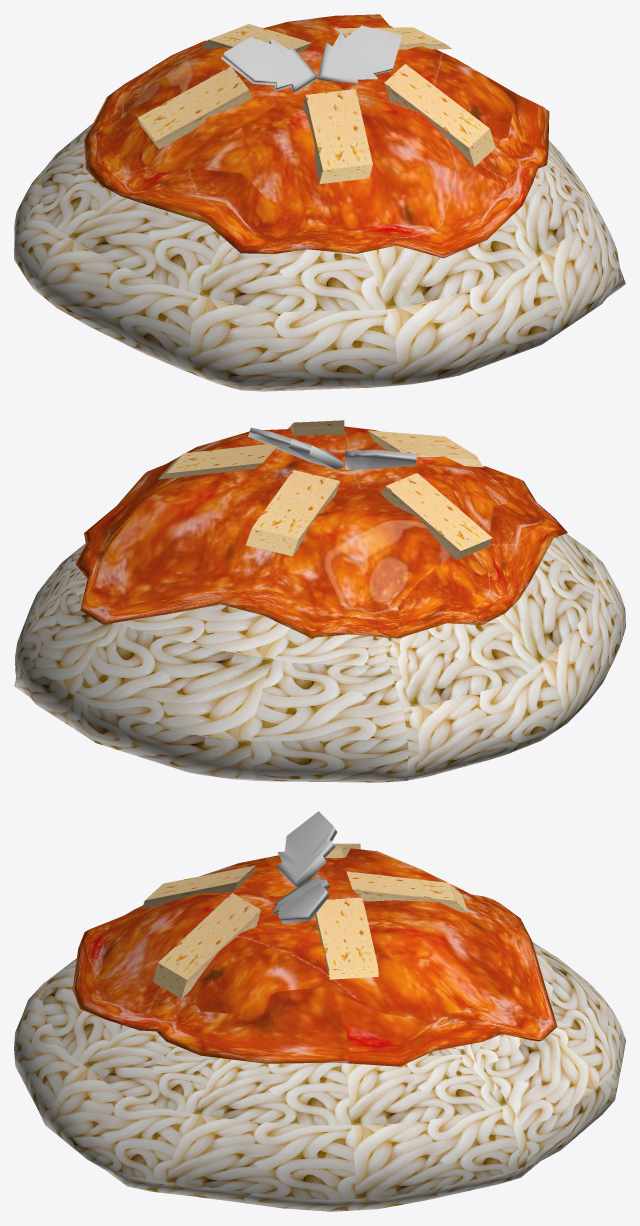
Rendered from BologneseWithCheese.fbx.
The picture shows the model from 3 angles, top to bottom: view 1: azimuth 30°, elevation 25°; view 2: azimuth 150°, elevation 25°; view 3: azimuth 270°, elevation 25°; orthographic projection. The views are drawn at different scales.
Visible parts, largest first — view 1: pCube23, pCube27, pCube26, pCube28, pCube24, pCube25; view 2: pCube23, pCube24, pCube28, pCube25, pCube27, pCube26; view 3: pCube23, pCube26, pCube25, pCube24, pCube27.
Boxes of the visible parts, x1,y1,x2,y2 form: pCube23: (14, 14, 625, 391); pCube27: (302, 89, 372, 183); pCube26: (384, 63, 495, 166); pCube28: (138, 66, 252, 149); pCube24: (202, 24, 311, 52); pCube25: (333, 27, 451, 49); pCube23: (14, 426, 625, 782); pCube24: (246, 470, 340, 556); pCube28: (381, 473, 492, 559); pCube25: (158, 444, 277, 479); pCube27: (367, 430, 483, 467); pCube26: (288, 420, 344, 435); pCube23: (14, 811, 625, 1211); pCube26: (152, 893, 261, 998); pCube25: (315, 897, 378, 979); pCube24: (346, 871, 467, 912); pCube27: (142, 865, 255, 908).
Size of the model in its own units: 5.48 by 2.58 by 5.81.
